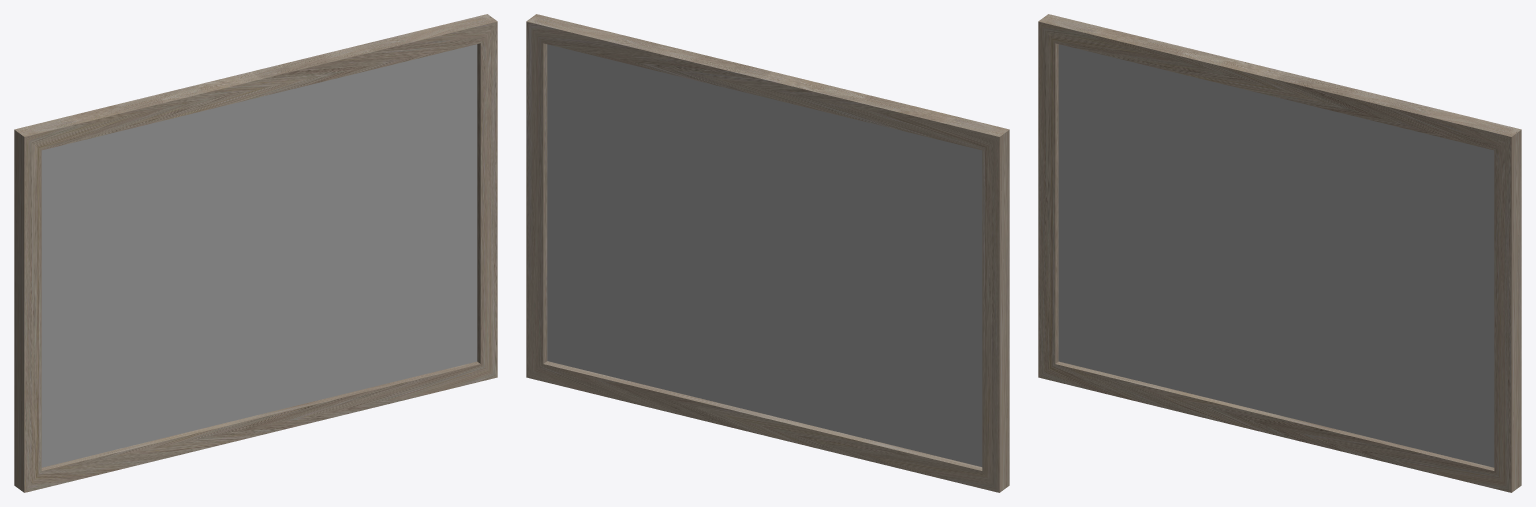
Rendered from window.fbx.
3 views of the same model, side by side, from view 1: azimuth 30°, elevation 25°; view 2: azimuth 150°, elevation 25°; view 3: azimuth 330°, elevation 25° (orthographic).
Parts seen in each view (by area): view 1: pCube1, pCube4; view 2: pCube1, pCube4; view 3: pCube1, pCube4.
Boxes of the visible parts, x1,y1,x2,y2 form: pCube1: [41, 44, 477, 467]; pCube4: [14, 14, 497, 492]; pCube1: [547, 44, 982, 466]; pCube4: [526, 14, 1009, 492]; pCube1: [1058, 44, 1494, 467]; pCube4: [1038, 14, 1521, 492].
Bounding box in the file's own units: 2.91 × 2.09 × 0.1093.
Materials: 2 (1 with a texture image).
